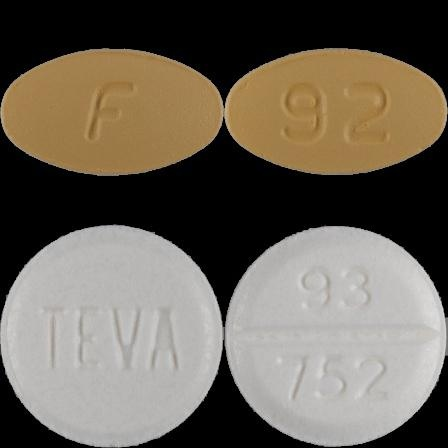63187-709: (0, 0, 224, 224)
